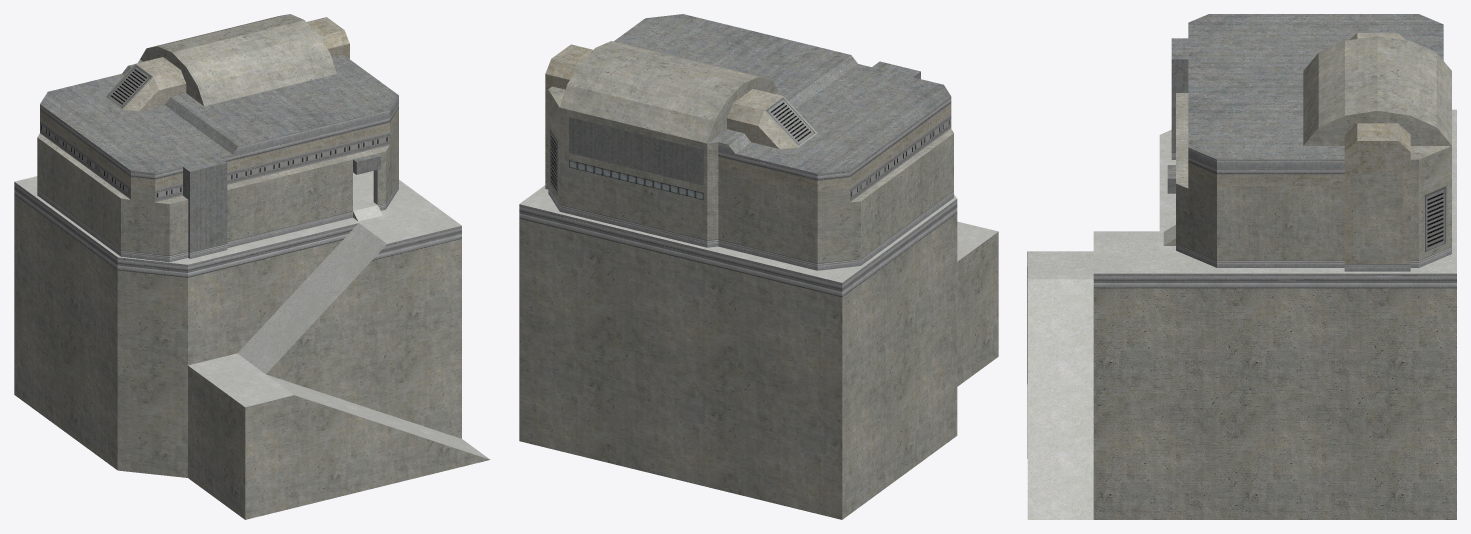
The model's file is ply_all_house_m_s02_fp1_r0_exterior_mesh_l1.fbx.
3 renders of one model, left to right at view 1: azimuth 30°, elevation 25°; view 2: azimuth 150°, elevation 25°; view 3: azimuth 270°, elevation 25°, orthographic. The views are drawn at different scales.
Parts seen in each view (by area): view 1: mesh_node; view 2: mesh_node; view 3: mesh_node.
Boxes of the visible parts, x1,y1,x2,y2 form: mesh_node: [14, 14, 490, 519]; mesh_node: [519, 14, 998, 519]; mesh_node: [1027, 14, 1456, 519].
Size of the model in its own units: 23.53 by 26.1 by 26.07.
